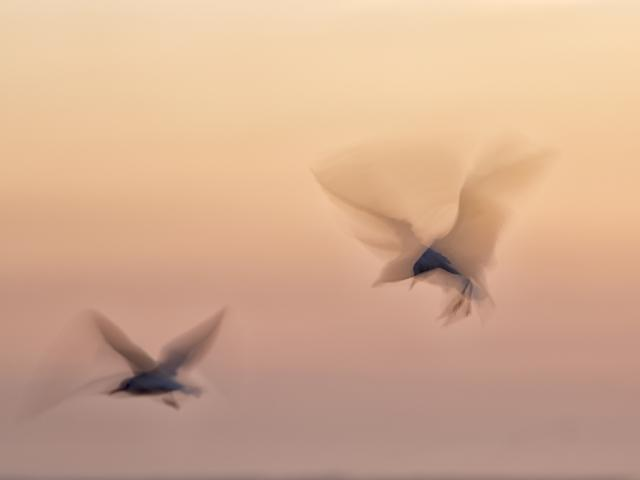Bird: (306, 151, 560, 325), (83, 306, 231, 409)
